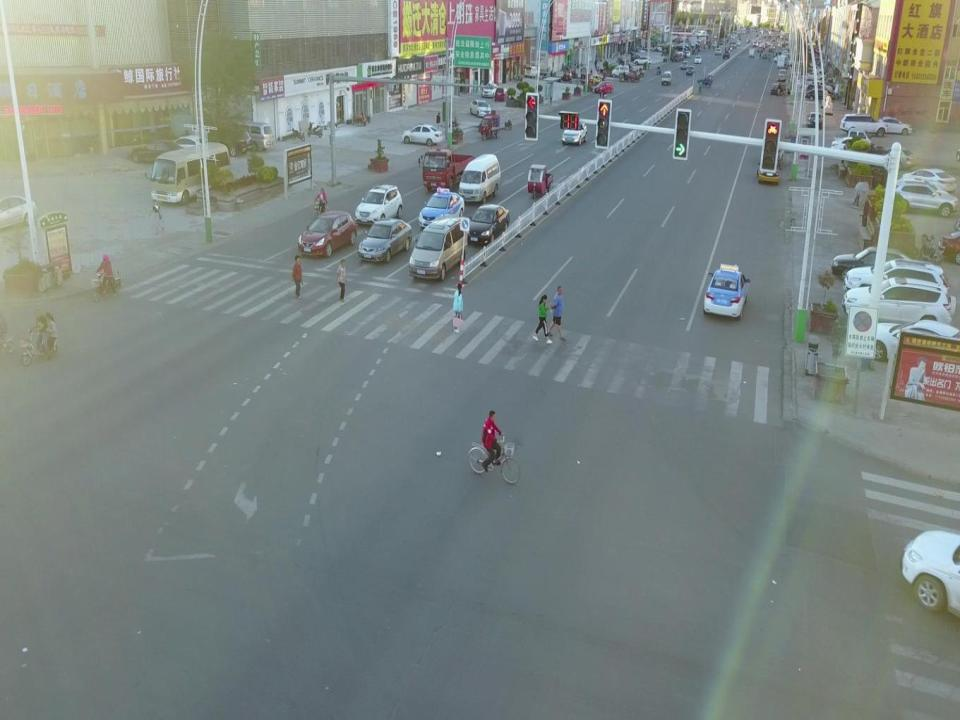bus: (146, 142, 230, 205)
car: (842, 277, 957, 334), (846, 258, 949, 318), (866, 318, 960, 375), (832, 246, 920, 283), (885, 175, 959, 217), (297, 210, 357, 257), (703, 263, 750, 318), (358, 218, 412, 262), (418, 186, 466, 230), (355, 184, 402, 228), (464, 204, 509, 246), (903, 166, 956, 198), (0, 196, 39, 235), (130, 139, 186, 164), (840, 112, 888, 137), (210, 129, 252, 157), (829, 136, 872, 161), (401, 122, 443, 146), (168, 133, 209, 157), (877, 147, 917, 169), (875, 115, 912, 136), (757, 157, 779, 185), (562, 120, 586, 144), (469, 98, 491, 118), (806, 88, 834, 102), (805, 84, 831, 98), (805, 112, 824, 128), (810, 81, 832, 93), (595, 79, 613, 91), (483, 84, 498, 98), (495, 86, 508, 102), (634, 55, 651, 66), (771, 83, 785, 94), (687, 66, 695, 75), (694, 56, 702, 64), (681, 61, 688, 70)
truck: (417, 143, 475, 191), (832, 128, 873, 152), (777, 56, 789, 68)
van: (407, 214, 468, 280), (459, 154, 500, 204), (225, 120, 274, 152), (612, 66, 630, 77), (661, 70, 672, 86), (525, 65, 538, 78), (778, 68, 788, 80)
